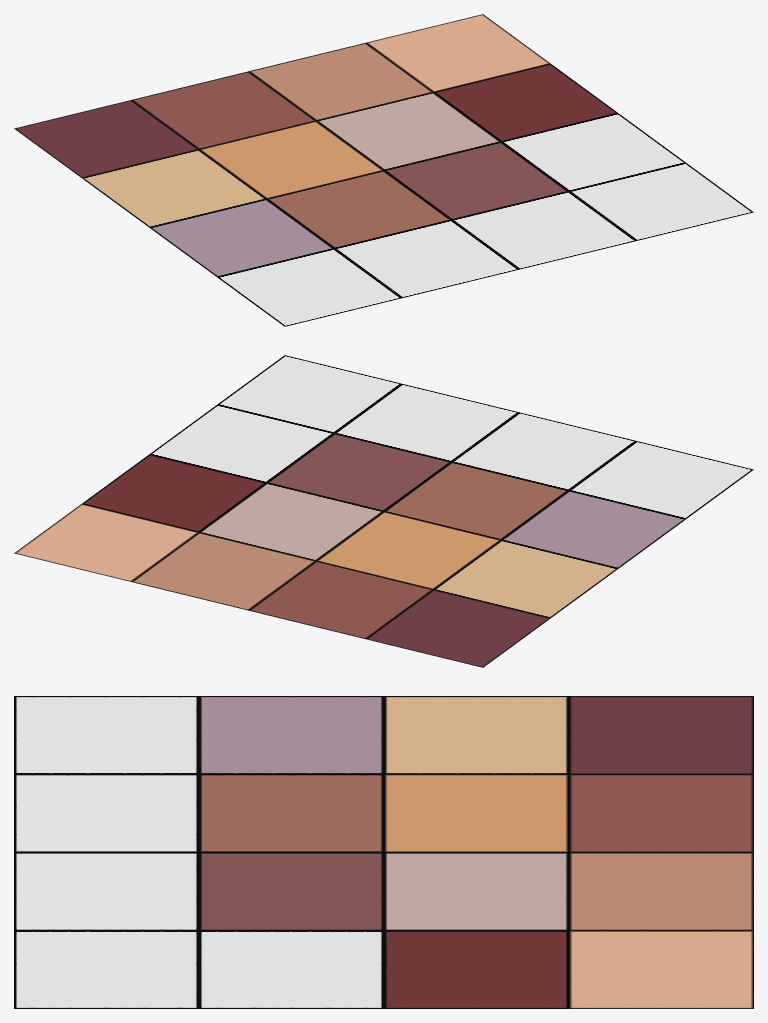
Rendered from SM_lake_2.fbx.
3 renders of one model, top to bottom at view 1: azimuth 30°, elevation 25°; view 2: azimuth 150°, elevation 25°; view 3: azimuth 270°, elevation 25°, orthographic. The views are drawn at different scales.
Visible parts, largest first — view 1: SM_lake_2; view 2: SM_lake_2; view 3: SM_lake_2.
Part boxes in pixels (x1,y1,x2,y2): SM_lake_2: (14,14,753,326); SM_lake_2: (14,355,753,667); SM_lake_2: (14,696,753,1008).
Size of the model in its own units: 2951 by 0 by 2951.
Materials: 1 (1 with a texture image).
